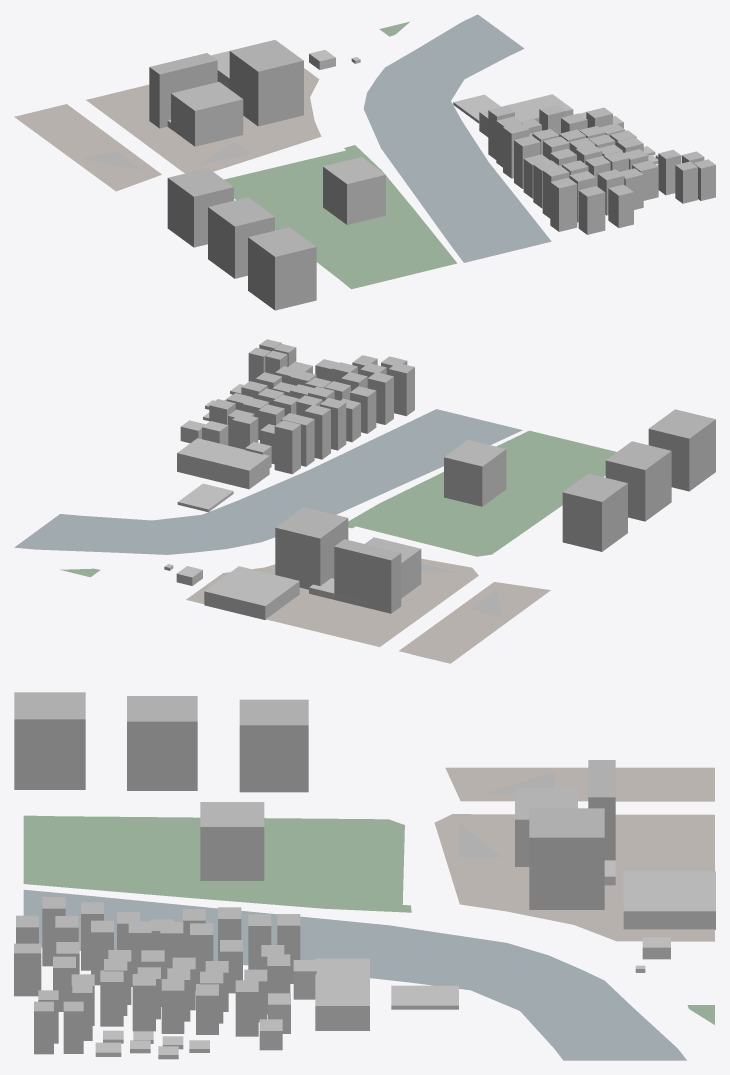
The model's file is 121_75_mid.glb.
3 views of the same model, one above another, from view 1: azimuth 30°, elevation 25°; view 2: azimuth 150°, elevation 25°; view 3: azimuth 270°, elevation 25° (orthographic). The views are drawn at different scales.
Bounding box in the file's own units: 504 × 59.4 × 508.
